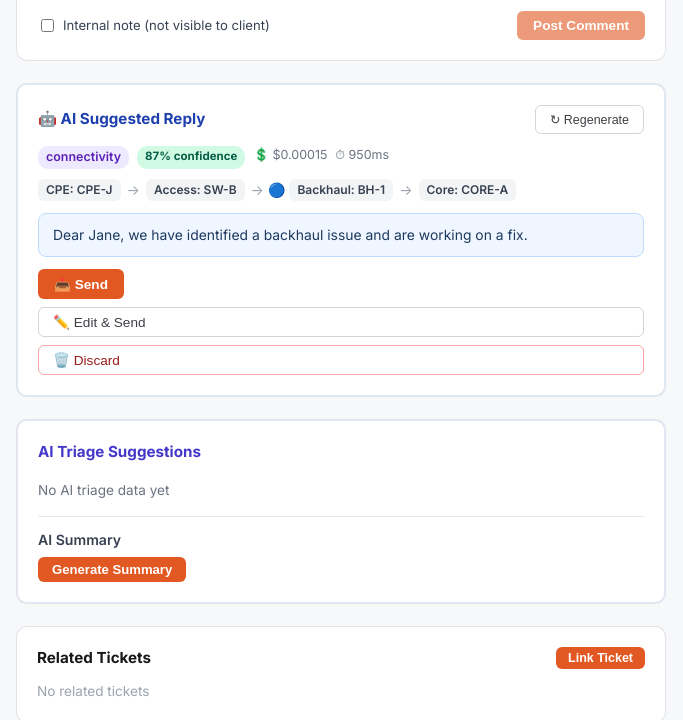
Test case: AiSuggestedReplyPanel › shows discarded message after discarding
(page scrolled)
Click the button labelled "🗑️ Discard" at (97, 361), box x1=38 y1=345 x2=644 y2=375
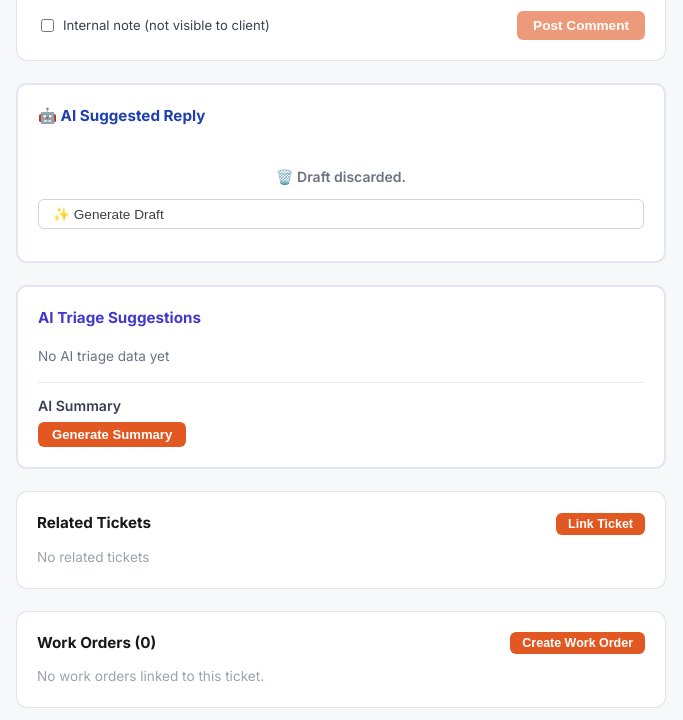
Expected: the text "🗑️ Draft discarded." is shown, x1=276 y1=168 x2=406 y2=185
